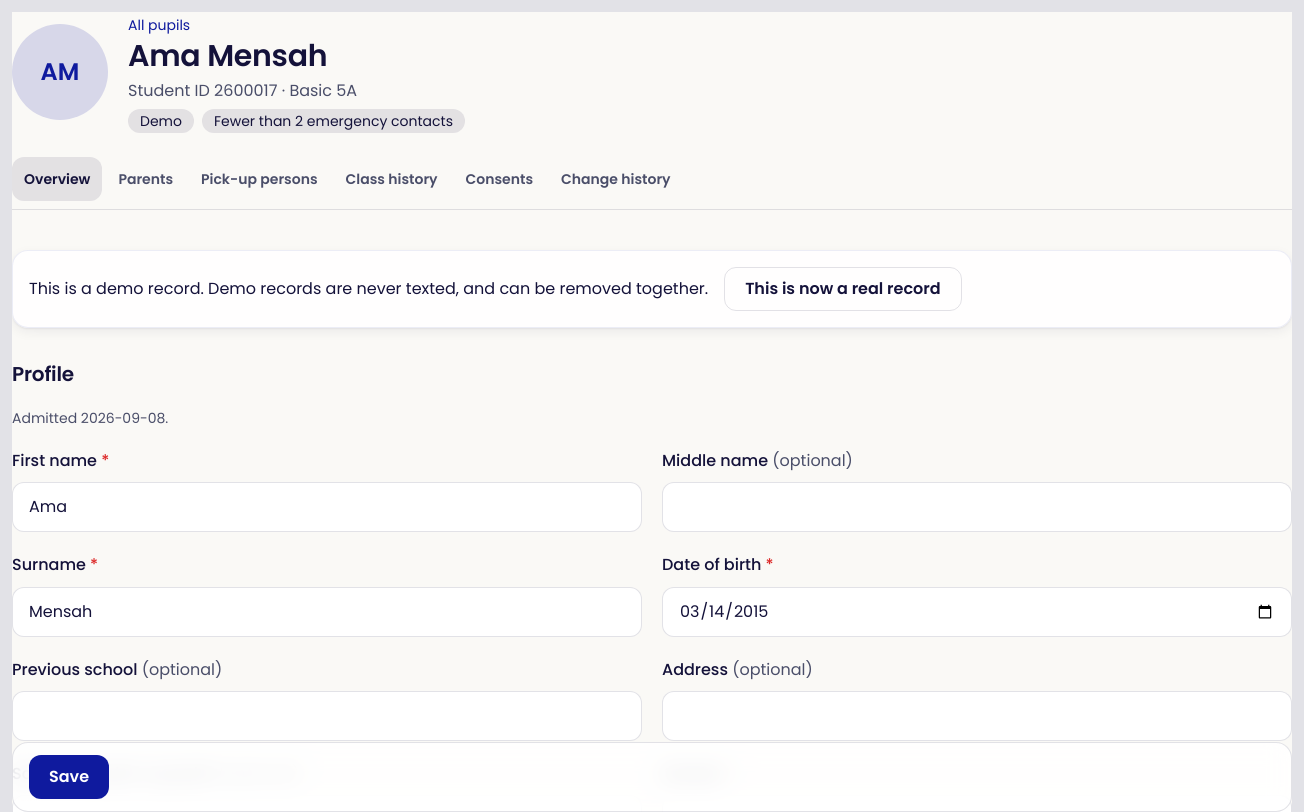
Test: PupilDetailView › saves the profile
Type "Serwaa" into the field labelled "Middle name (optional)" at [977, 507], box [662,482,1292,532]
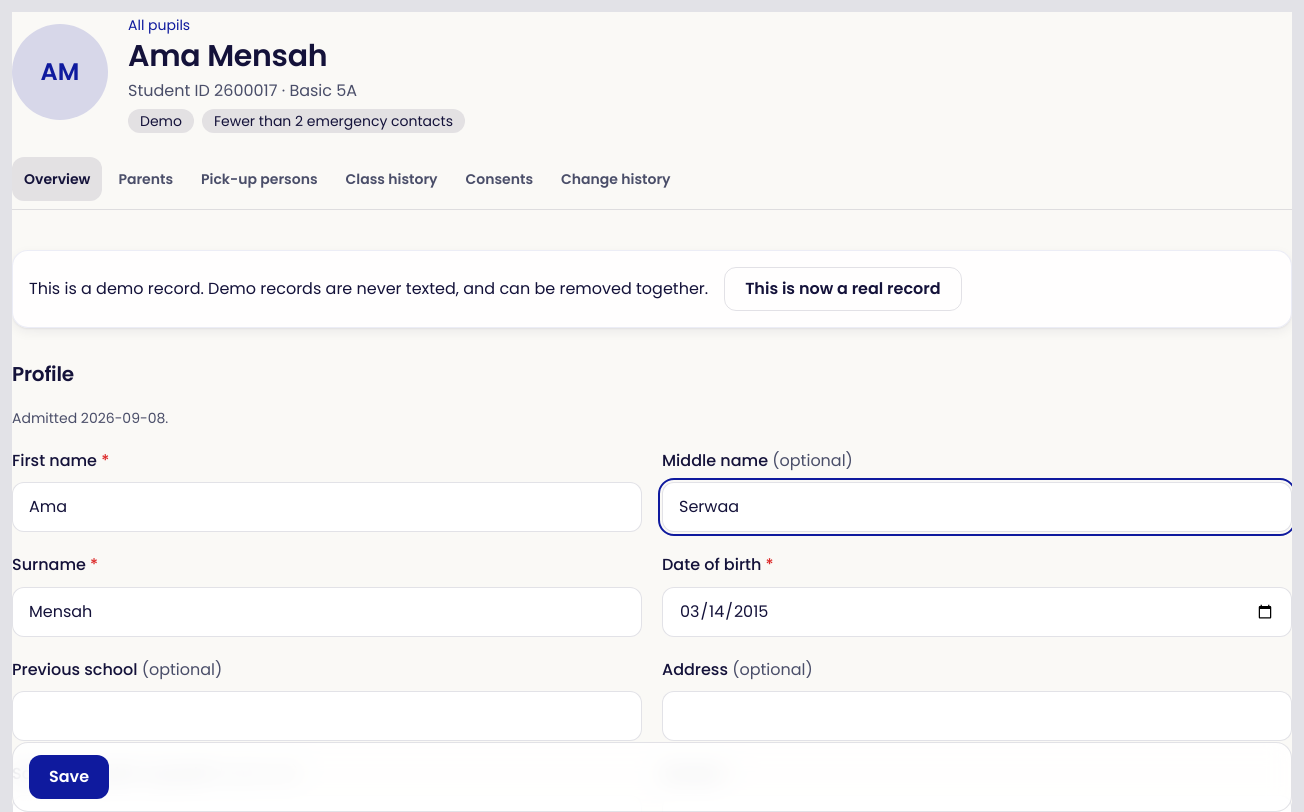
Click the button "Save" at [69, 777], box [29,755,109,799]
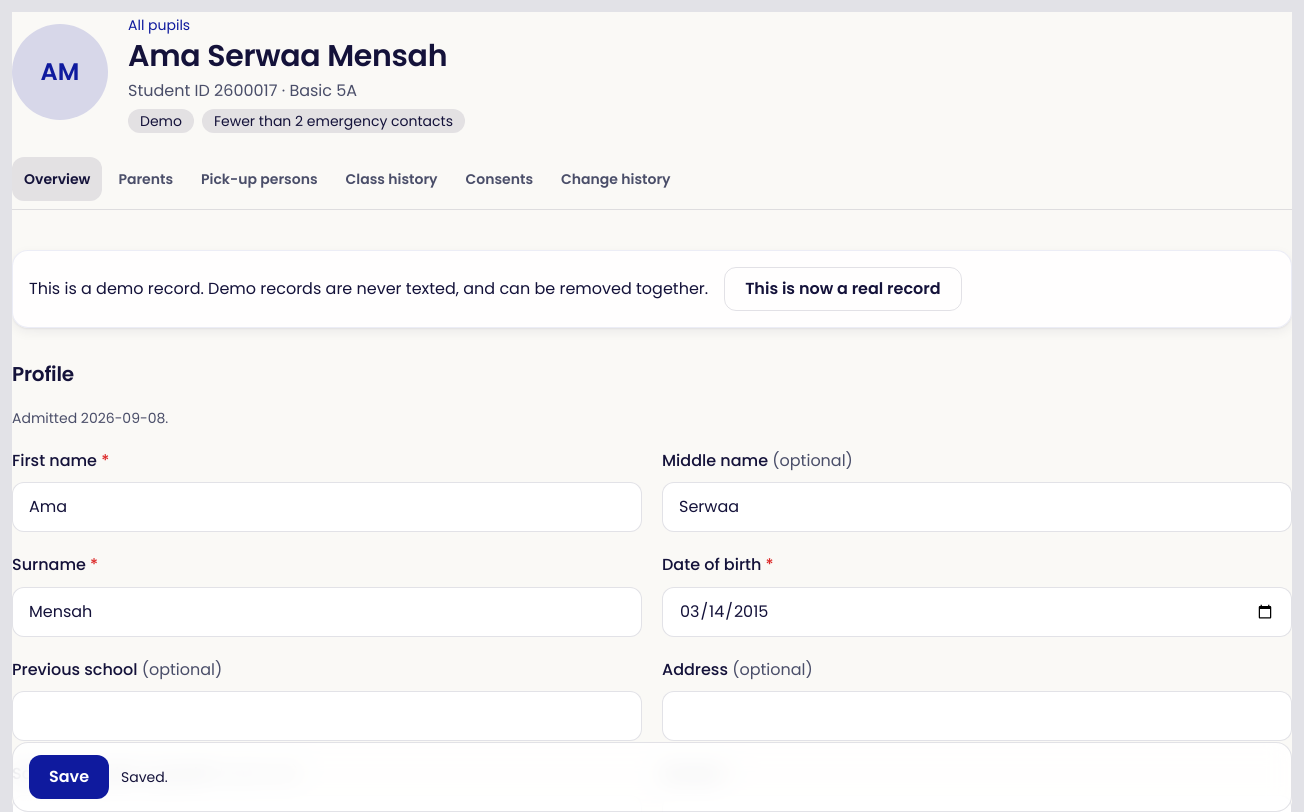
Result: the heading "Ama Serwaa Mensah" is shown at [128,38,465,74]
